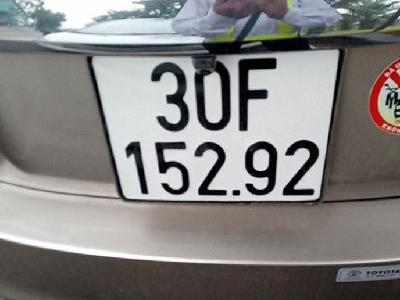lisence: (86, 50, 349, 204)
